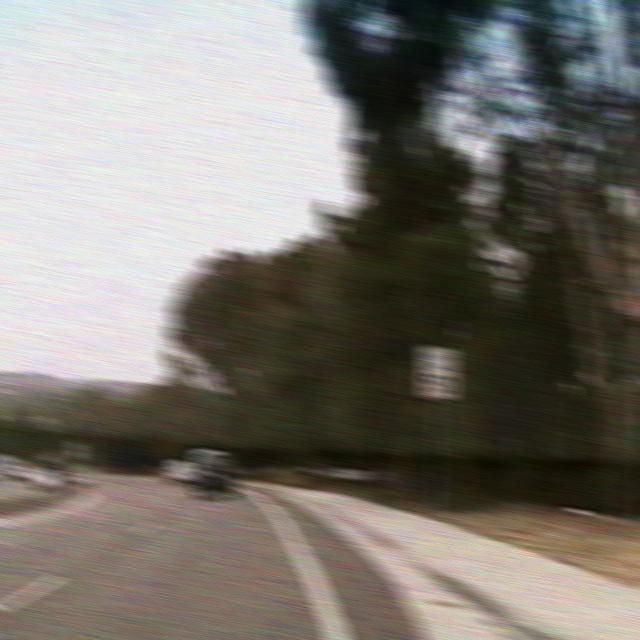speedLimit50: (417, 344, 458, 401)
